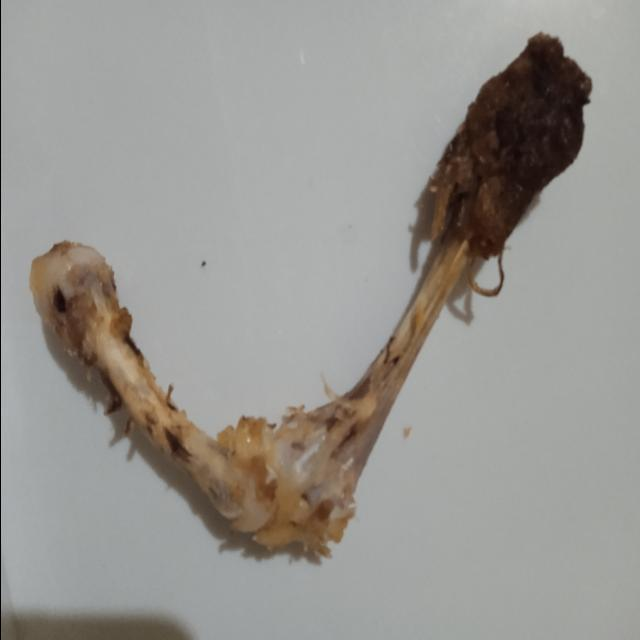bone: (12, 0, 609, 569)
